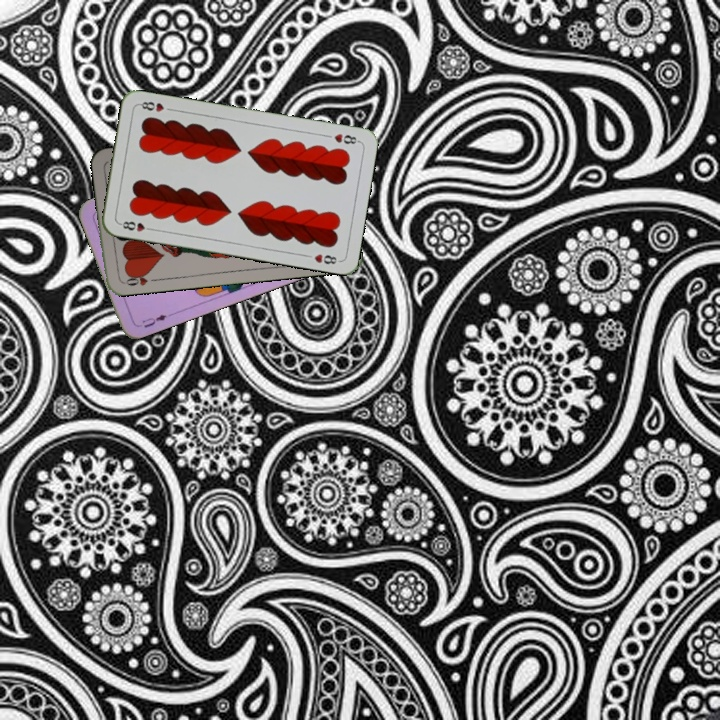EU: (138, 310, 170, 330)
H8: (116, 217, 156, 234), (330, 129, 362, 147)
HO: (118, 268, 159, 289)
